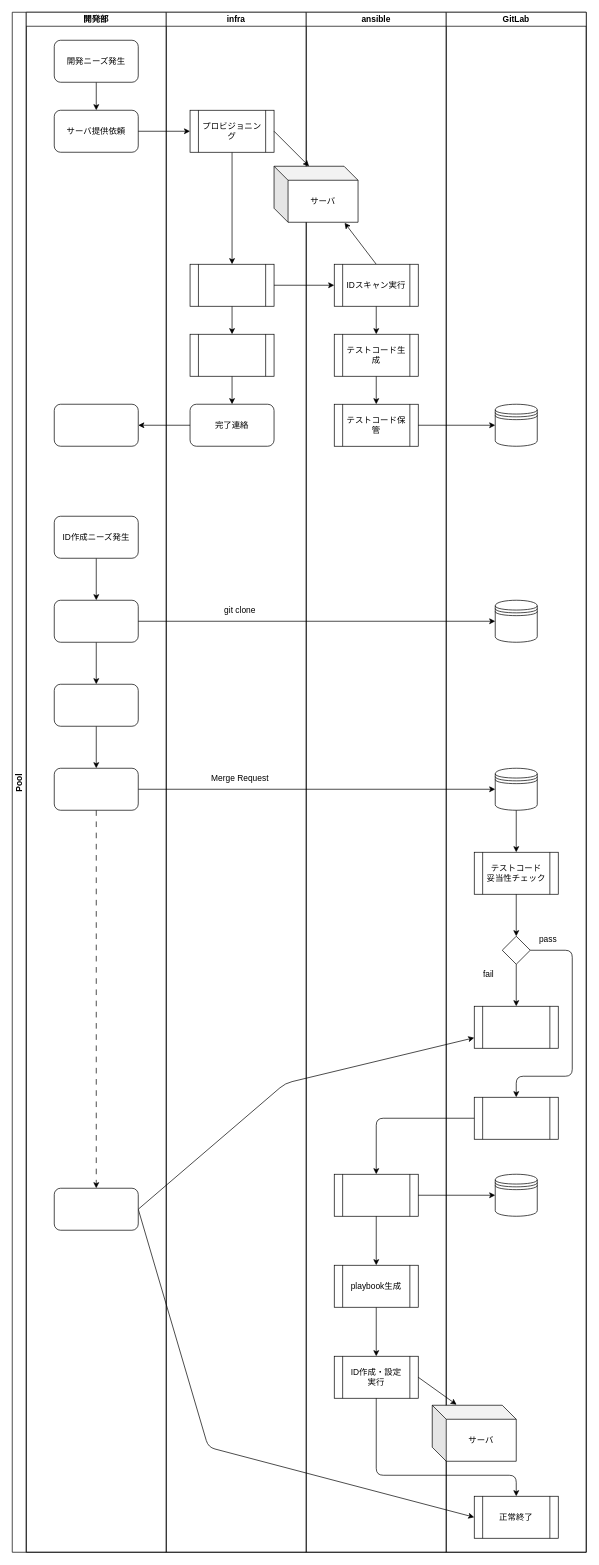
Image size: 599x1565. Some labels were removed from this diagram. Each missing label, with the centre of its shape:
IDスキャン実行指示: (231,285)
ID作成依頼 =テストコード提出: (96,789)
ID作成指示: (516,1118)
エラー終了: (516,1027)
サーバ受領: (96,425)
テストコード 取得: (376,1195)
テストコード修正: (96,705)
テストコード取得: (96,621)
プロビジョニング完了: (231,355)
結果確認: (96,1209)
